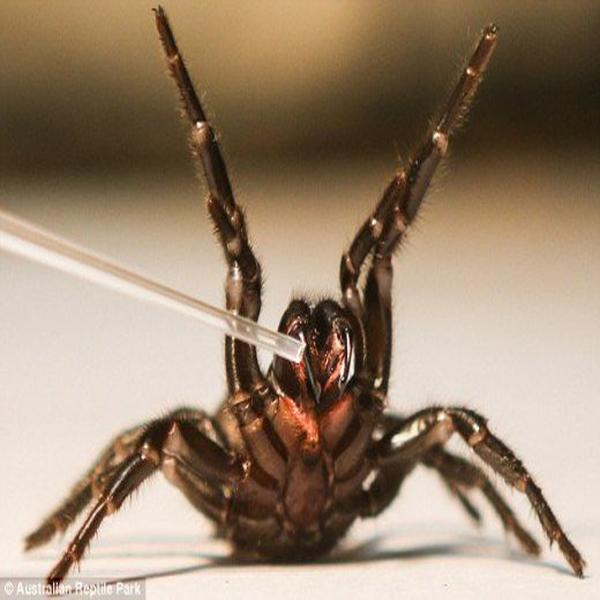Sydney_Funnel_Web_Spider: (25, 5, 585, 584)
